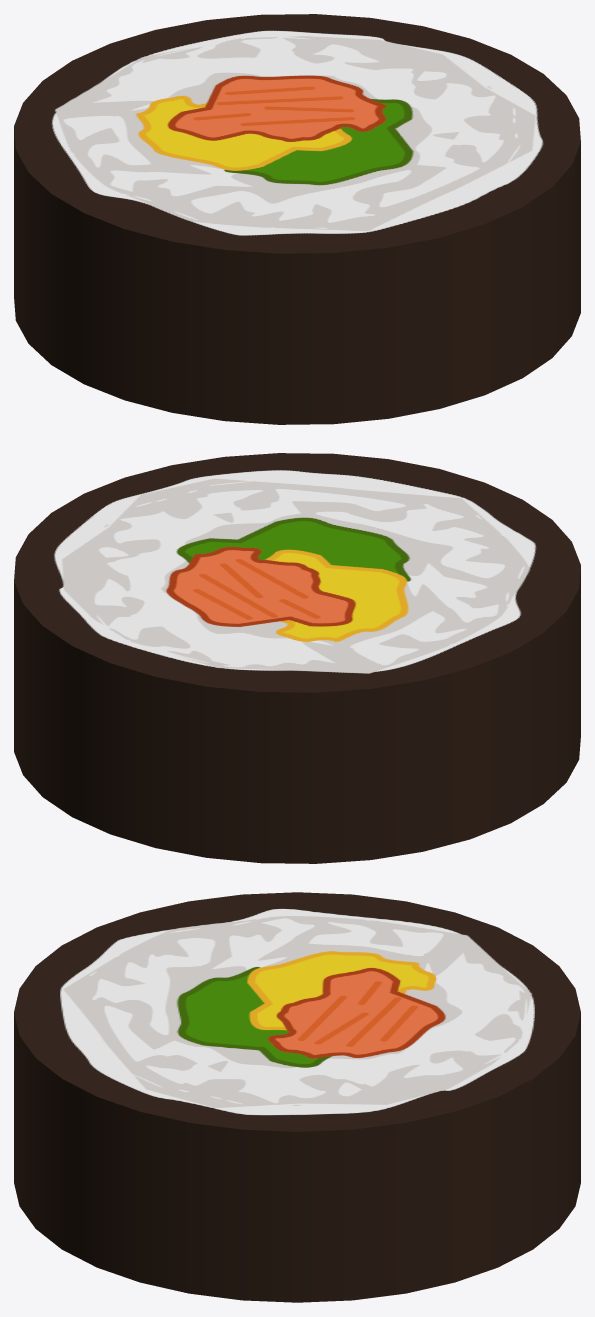
File: Sushi.fbx
The picture shows the model from 3 angles, top to bottom: view 1: azimuth 30°, elevation 25°; view 2: azimuth 150°, elevation 25°; view 3: azimuth 270°, elevation 25°; orthographic projection.
Visible parts, largest first — view 1: Sushi; view 2: Sushi; view 3: Sushi.
Part boxes in pixels (<box>): Sushi: <box>14,14,580,424</box>; Sushi: <box>14,453,580,863</box>; Sushi: <box>14,892,580,1302</box>.
Size of the model in its own units: 10.14 by 3.37 by 10.14.
